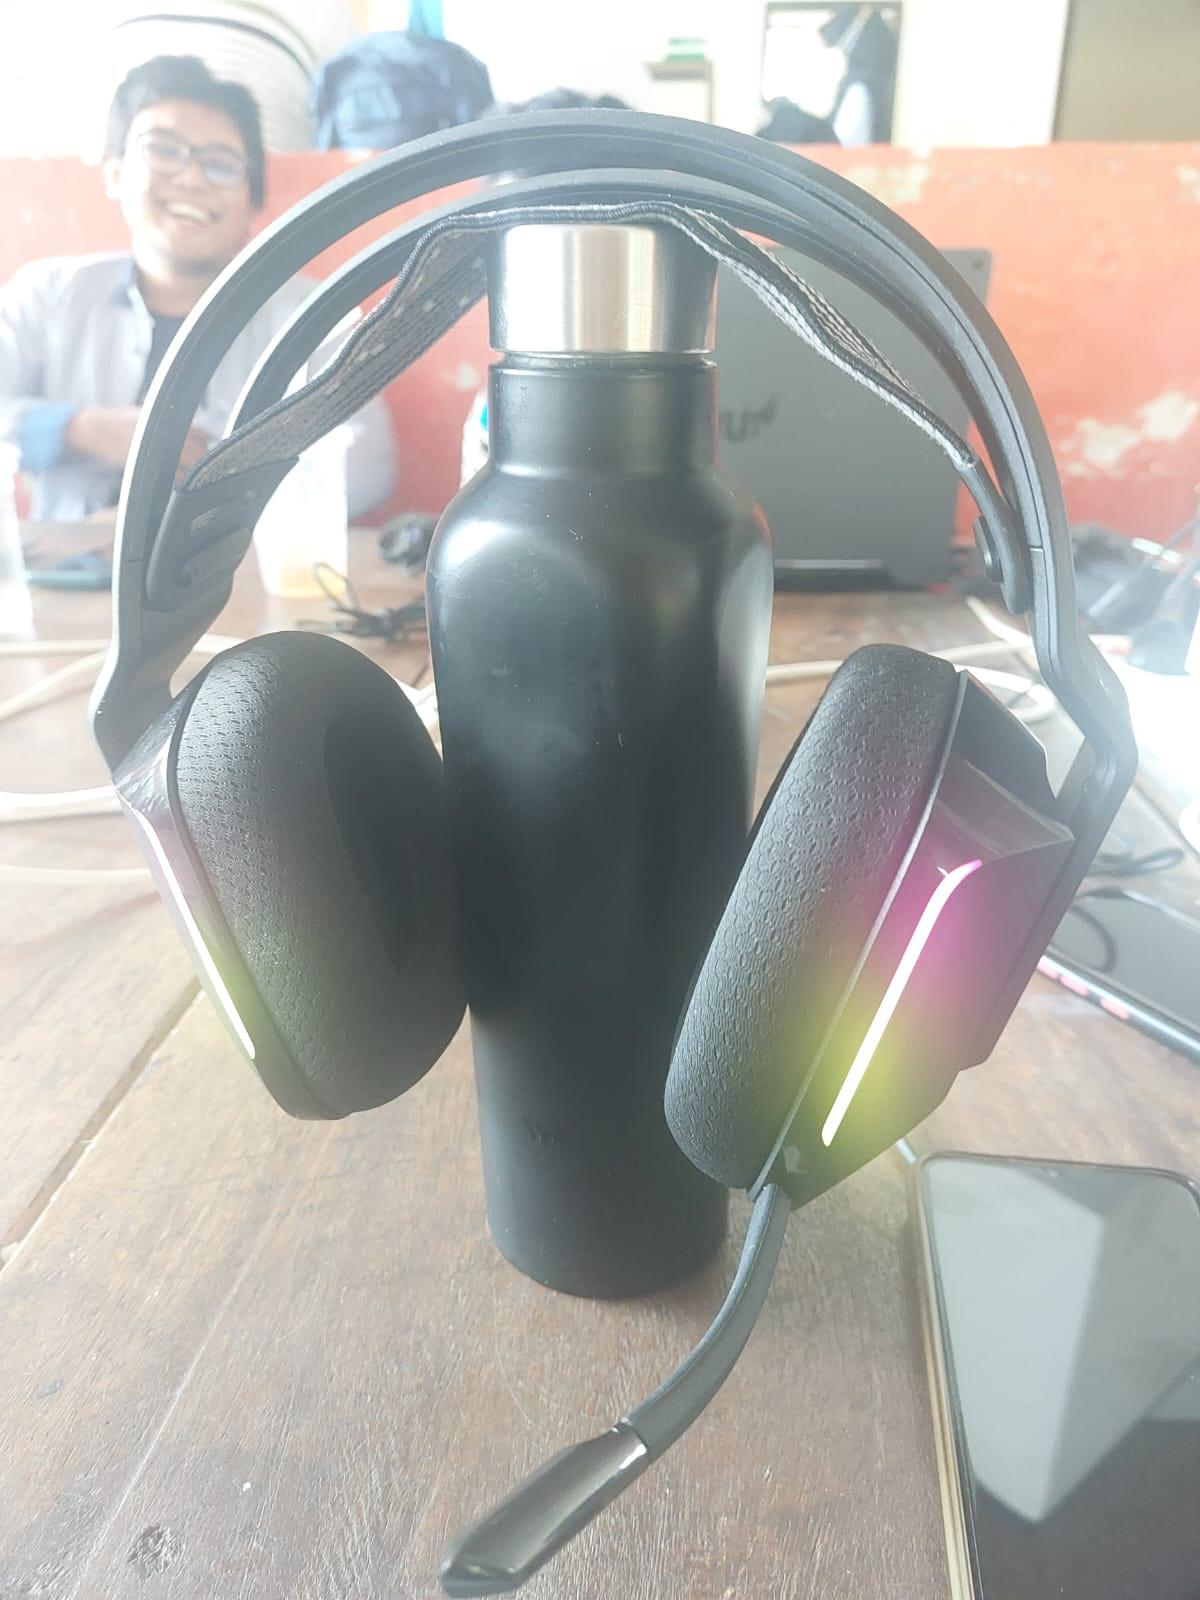Headset: (57, 60, 1155, 1600)
